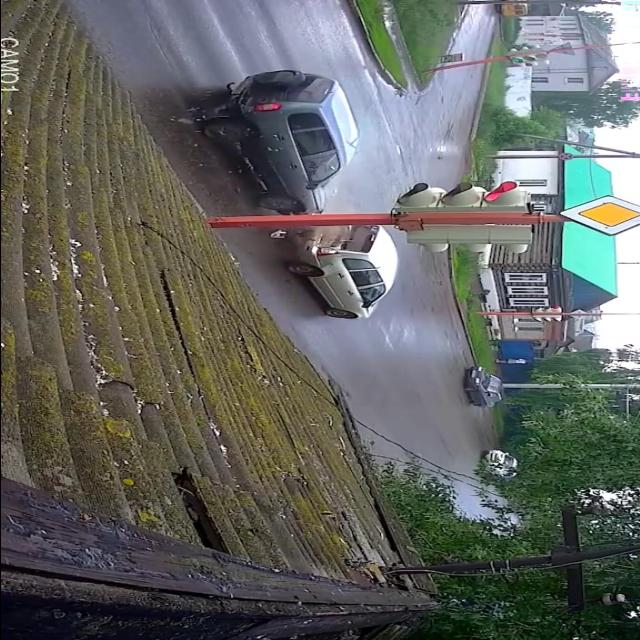accident: (274, 224, 402, 322)
